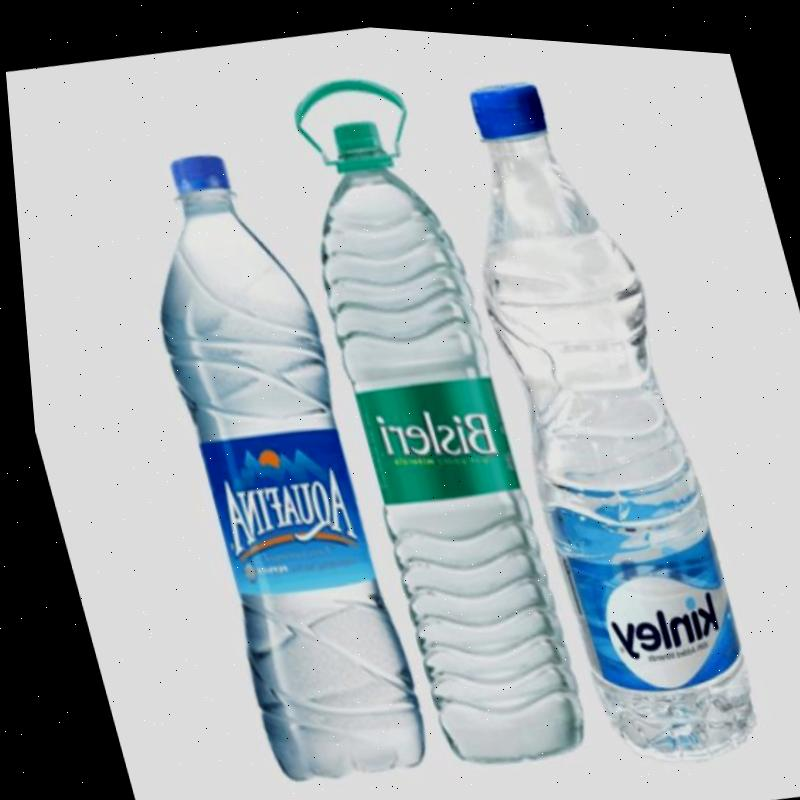botella: (421, 55, 760, 768), (271, 97, 585, 771), (107, 132, 427, 792)
